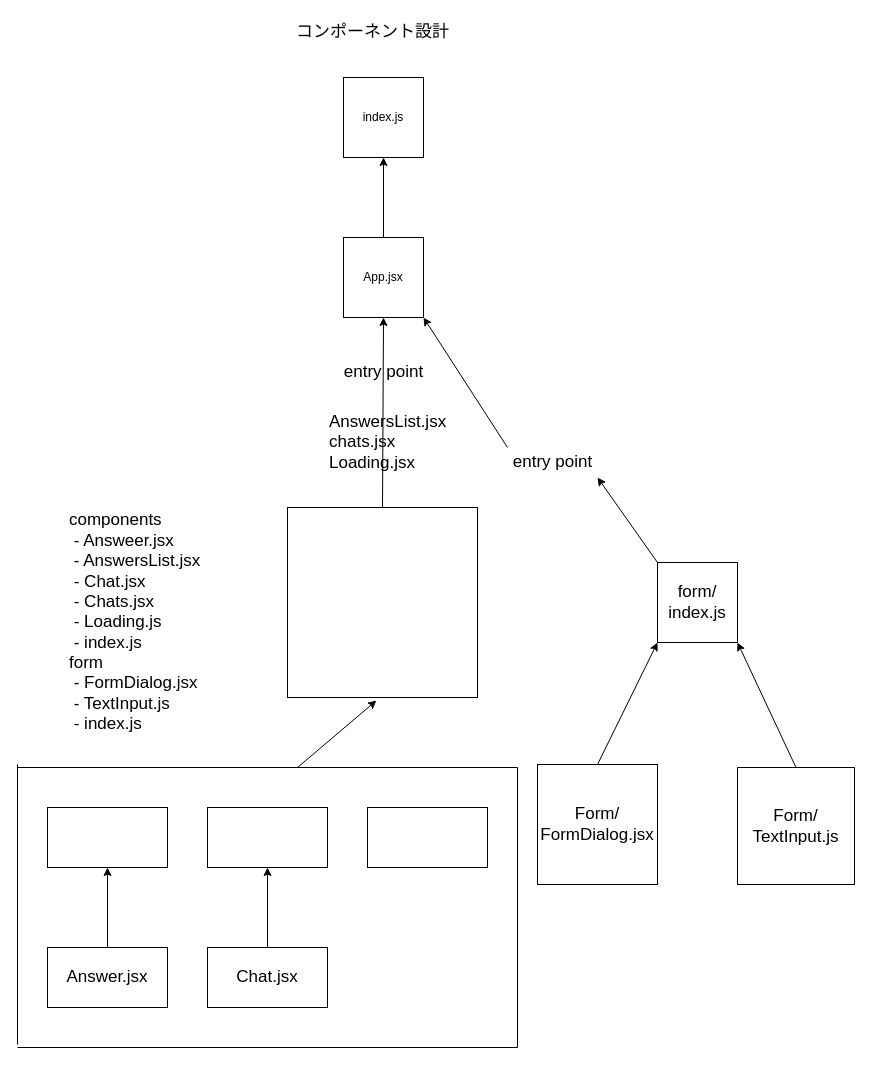
This 872x1066 diagram has some shape labels left out. The centre of each missing label's shape, as x and y in pixels:
AnswersList.jsx: (107,837)
Chats.jsx: (267,837)
components index.js: (382,602)
Loading.jsx: (427,837)
